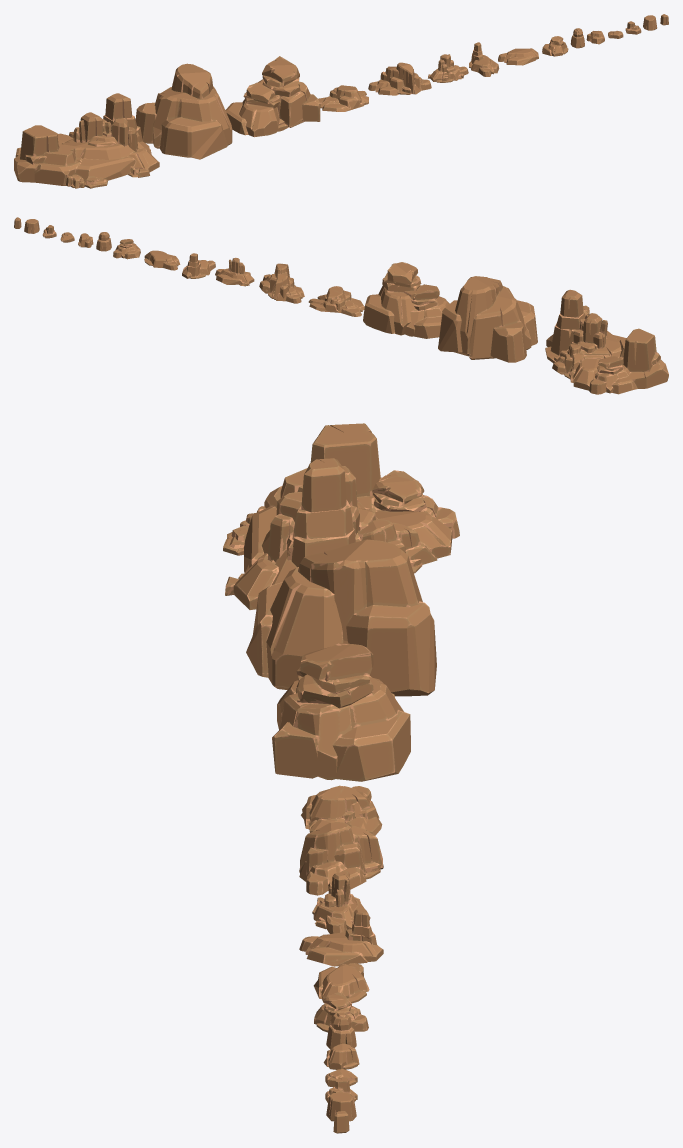
File: DesertRocks.fbx
3 renders of one model, top to bottom at view 1: azimuth 30°, elevation 25°; view 2: azimuth 150°, elevation 25°; view 3: azimuth 270°, elevation 25°, orthographic. The views are drawn at different scales.
Visible parts, largest first — view 1: DesertRocks_01, DesertRocks_02, DesertRocks_03, DesertRocks_05, DesertRocks_04, DesertRocks_06, DesertRocks_07, DesertRocks_08, DesertRocks_09; view 2: DesertRocks_01, DesertRocks_02, DesertRocks_03, DesertRocks_05, DesertRocks_04, DesertRocks_06, DesertRocks_07, DesertRocks_08, DesertRocks_09; view 3: DesertRocks_01, DesertRocks_02, DesertRocks_03, DesertRocks_05, DesertRocks_04, DesertRocks_07, DesertRocks_06, DesertRocks_08, DesertRocks_09.
Boxes of the visible parts, <box> form: DesertRocks_01: <box>14,93,159,188</box>; DesertRocks_02: <box>135,63,232,159</box>; DesertRocks_03: <box>225,56,320,137</box>; DesertRocks_05: <box>368,62,431,95</box>; DesertRocks_04: <box>318,85,368,111</box>; DesertRocks_06: <box>428,54,468,82</box>; DesertRocks_07: <box>469,42,499,76</box>; DesertRocks_08: <box>498,48,538,65</box>; DesertRocks_09: <box>542,36,568,56</box>; DesertRocks_01: <box>545,289,668,394</box>; DesertRocks_02: <box>438,276,537,362</box>; DesertRocks_03: <box>363,262,449,338</box>; DesertRocks_05: <box>259,263,304,303</box>; DesertRocks_04: <box>308,286,364,316</box>; DesertRocks_06: <box>215,257,254,286</box>; DesertRocks_07: <box>182,253,215,278</box>; DesertRocks_08: <box>144,250,180,270</box>; DesertRocks_09: <box>113,239,140,259</box>; DesertRocks_01: <box>223,423,459,609</box>; DesertRocks_02: <box>246,539,436,696</box>; DesertRocks_03: <box>272,643,410,781</box>; DesertRocks_05: <box>299,822,383,895</box>; DesertRocks_04: <box>301,785,382,835</box>; DesertRocks_07: <box>299,908,383,966</box>; DesertRocks_06: <box>312,871,370,933</box>; DesertRocks_08: <box>313,963,369,1003</box>; DesertRocks_09: <box>314,992,368,1032</box>.
Bounding box in the file's own units: 134 × 12.83 × 21.08.
8 materials, 8 textured.
